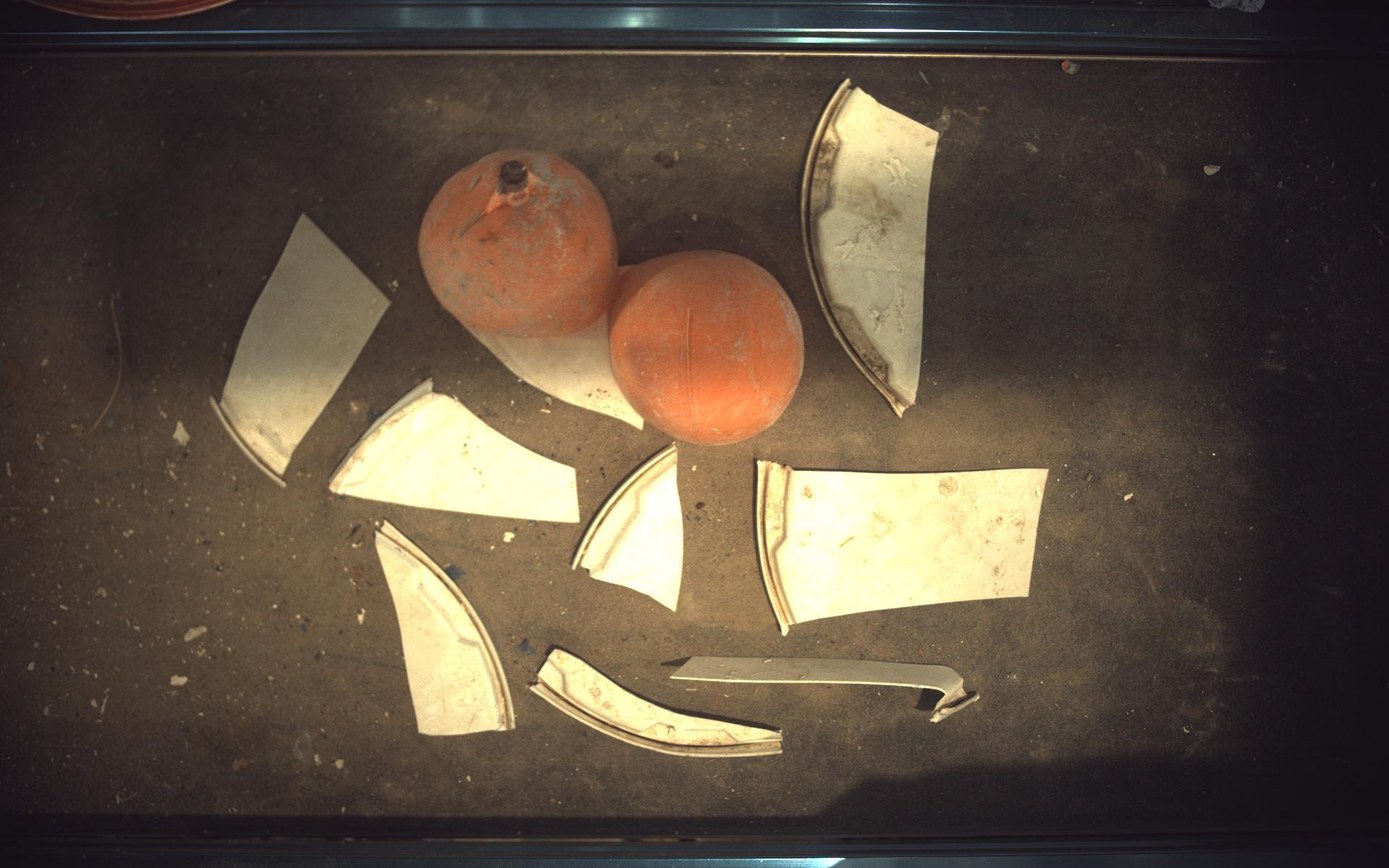plastic: (419, 150, 805, 445), (757, 461, 1050, 636), (213, 213, 390, 486), (803, 78, 940, 415), (328, 379, 579, 523), (375, 522, 514, 736), (530, 649, 783, 759), (467, 313, 644, 429), (671, 658, 982, 724), (572, 442, 684, 612)
